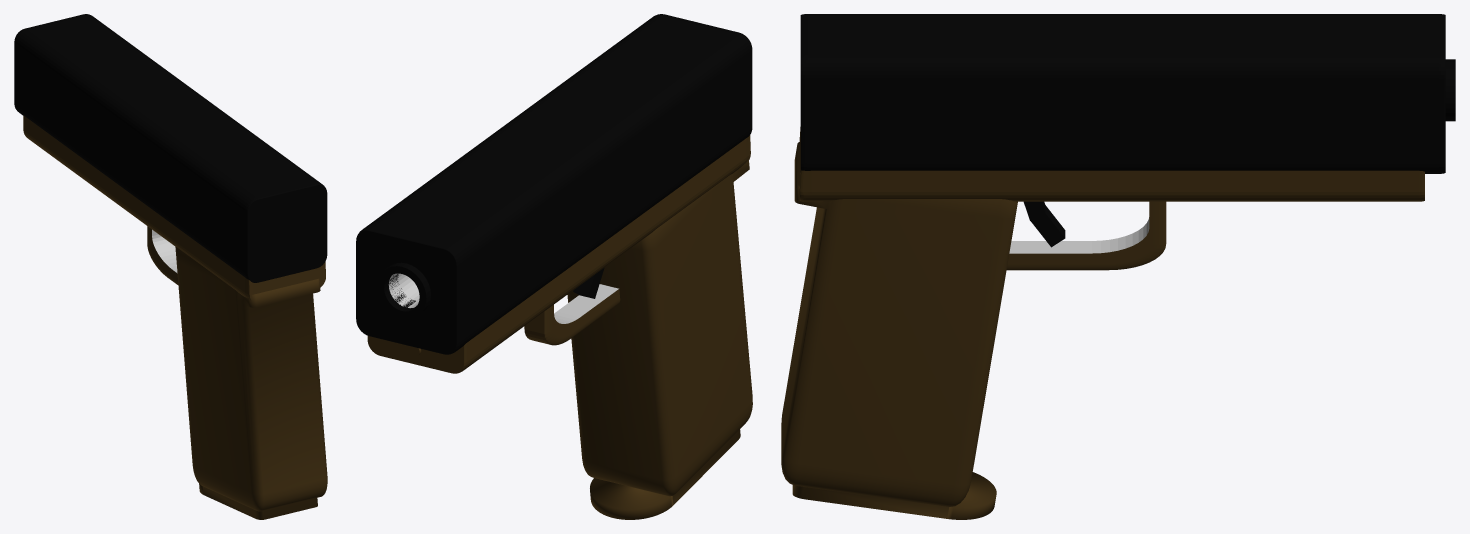
The model's file is glock.obj.
The picture shows the model from 3 angles, left to right: view 1: azimuth 30°, elevation 25°; view 2: azimuth 150°, elevation 25°; view 3: azimuth 270°, elevation 25°; orthographic projection. The views are drawn at different scales.
Parts seen in each view (by area): view 1: Cube.001, Cube.002, Cube, Cube.003; view 2: Cube.001, Cube.002, Cube, Cube.003, Cylinder; view 3: Cube.001, Cube.002, Cube, Cube.003.
Boxes of the visible parts, box(x1,y1,x2,y2) form: Cube.001: box(14, 14, 327, 282); Cube.002: box(175, 246, 327, 519); Cube: box(23, 115, 325, 300); Cube.003: box(147, 226, 178, 284); Cube.001: box(356, 14, 752, 354); Cube.002: box(567, 159, 752, 519); Cube: box(367, 135, 750, 373); Cube.003: box(524, 284, 620, 345); Cylinder: box(377, 262, 430, 318); Cube.001: box(800, 14, 1445, 173); Cube.002: box(781, 142, 1017, 519); Cube: box(799, 127, 1424, 201); Cube.003: box(1006, 201, 1166, 270).
Bounding box in the file's own units: 0.4163 × 1.67 × 2.18.
